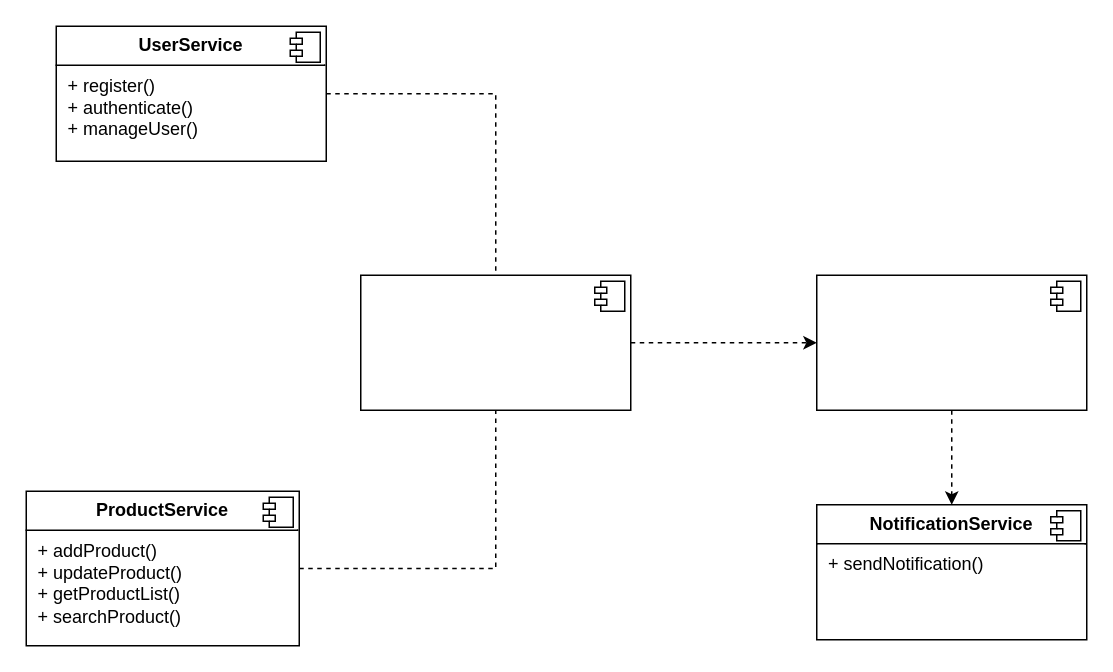
Image size: 1113x672. Some labels were removed from this diagram. Here are the shapes that lost their labels. From the top down, the centre of each, then its label:
At point (495, 342): "OrderService + createOrder() + getStatus() + cancelOrder()".
At point (951, 342): "PaymentService + processPayment() + getStatus() + notifyPayment()".
